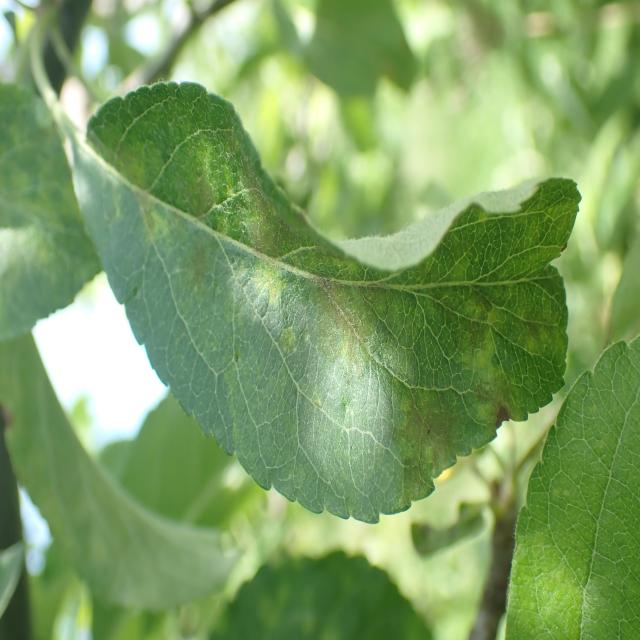scab: (86, 82, 580, 488)
